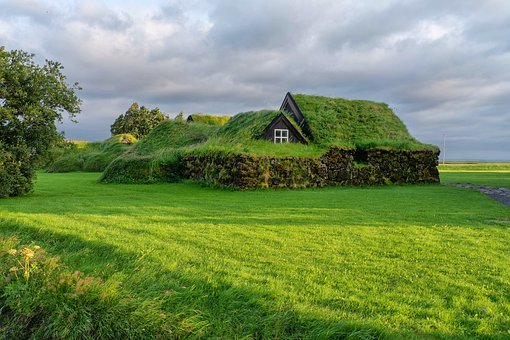field: (8, 176, 503, 340)
house: (150, 80, 436, 181)
sky: (1, 1, 502, 108)
tree: (1, 33, 66, 188)
